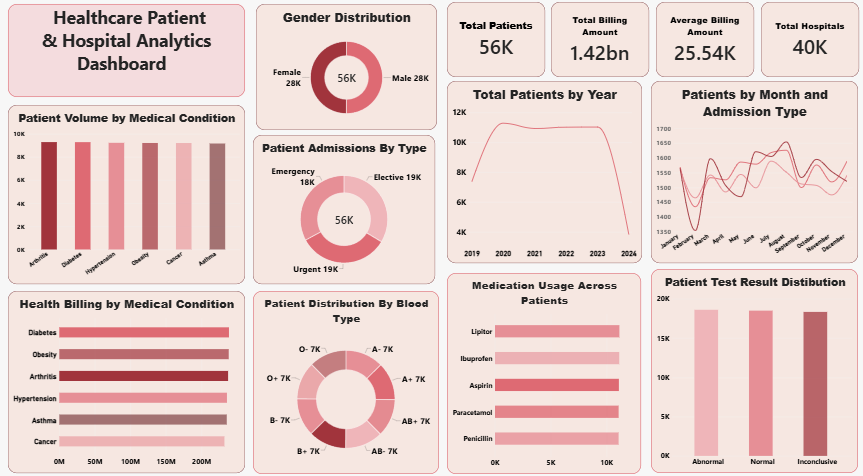

Layout of this report page (visuals, bound fields, positions):
{"tool":"powerbi","page":{"name":"Page 1","canvas":[2900,1600],"ordinal":0},"visuals":[{"type":"columnChart","title":"Patient Volume by Medical Condition","fields":{"Category":["healthcare_dataset.Medical Condition"],"Y":["healthcare_dataset.Total Patients"]},"box":[36.7,350,790,596.7],"z":0},{"type":"donutChart","title":"Gender Distribution","fields":{"Category":["healthcare_dataset.Gender"],"Y":["healthcare_dataset.Total Patients"]},"box":[863.3,13.3,603.3,420],"z":1000},{"type":"cardVisual","fields":{"Data":["healthcare_dataset.Total Patients"]},"box":[1500,6.7,326.7,250],"z":2000},{"type":"cardVisual","fields":{"Data":["healthcare_dataset.Total Billing Amount"]},"box":[1846.7,6.7,326.7,250],"z":4000},{"type":"cardVisual","fields":{"Data":["healthcare_dataset.Average Billing Amount"]},"box":[2196.7,6.7,326.7,250],"z":5000},{"type":"cardVisual","fields":{"Data":["healthcare_dataset.Total Hospitals"]},"box":[2546.7,6.7,326.7,250],"z":6000},{"type":"textbox","box":[36.7,13.3,790,310],"z":7000},{"type":"lineChart","fields":{"Y":["healthcare_dataset.Total Patients"],"Category":["healthcare_dataset.Date of Admission.Variation.Date Hierarchy.Year"]},"box":[1500,270,650,606.7],"z":8000},{"type":"lineChart","title":"Patients by Month and Admission Type","fields":{"Category":["healthcare_dataset.Date of Admission.Variation.Date Hierarchy.Month"],"Y":["healthcare_dataset.Total Patients"],"Series":["healthcare_dataset.Admission Type"]},"box":[2180,270,690,606.7],"z":9000},{"type":"pieChart","title":"Patient Distribution By Blood Type","fields":{"Category":["healthcare_dataset.Blood Type"],"Y":["healthcare_dataset.Total Patients"]},"box":[853.3,970,620,610],"z":10000},{"type":"barChart","title":"Health Billing by Medical Condition","fields":{"Y":["Sum(healthcare_dataset.Billing Amount)"],"Category":["healthcare_dataset.Medical Condition"]},"box":[36.7,970,790,606.7],"z":11000},{"type":"donutChart","title":"Patient Admissions By Type","fields":{"Category":["healthcare_dataset.Admission Type"],"Y":["healthcare_dataset.Total Patients"]},"box":[853.3,450,606.7,496.7],"z":12000},{"type":"columnChart","title":"Patient Test Result Distibution","fields":{"Category":["healthcare_dataset.Test Results"],"Y":["healthcare_dataset.Total Patients"]},"box":[2180,896.7,690,680],"z":13000},{"type":"barChart","title":"Medication Usage Across Patients","fields":{"Category":["healthcare_dataset.Medication"],"Y":["healthcare_dataset.Total Patients"]},"box":[1500,910,646.7,670],"z":14000}]}

Visuals, with their boxes in screenshot pixels (x1, y1, x2, y2), scaled from the page's 2900x1600 canvas onto the 863x476 screenshot:
"Patient Volume by Medical Condition" columnChart: x1=11, y1=104, x2=246, y2=282
"Gender Distribution" donutChart: x1=257, y1=4, x2=436, y2=129
cardVisual - healthcare_dataset.Total Patients: x1=446, y1=2, x2=544, y2=76
cardVisual - healthcare_dataset.Total Billing Amount: x1=550, y1=2, x2=647, y2=76
cardVisual - healthcare_dataset.Average Billing Amount: x1=654, y1=2, x2=751, y2=76
cardVisual - healthcare_dataset.Total Hospitals: x1=758, y1=2, x2=855, y2=76
textbox: x1=11, y1=4, x2=246, y2=96
lineChart - healthcare_dataset.Total Patients x healthcare_dataset.Date of Admission.Variation.Date Hierarchy.Year: x1=446, y1=80, x2=640, y2=261
"Patients by Month and Admission Type" lineChart: x1=649, y1=80, x2=854, y2=261
"Patient Distribution By Blood Type" pieChart: x1=254, y1=289, x2=438, y2=470
"Health Billing by Medical Condition" barChart: x1=11, y1=289, x2=246, y2=469
"Patient Admissions By Type" donutChart: x1=254, y1=134, x2=434, y2=282
"Patient Test Result Distibution" columnChart: x1=649, y1=267, x2=854, y2=469
"Medication Usage Across Patients" barChart: x1=446, y1=271, x2=639, y2=470
